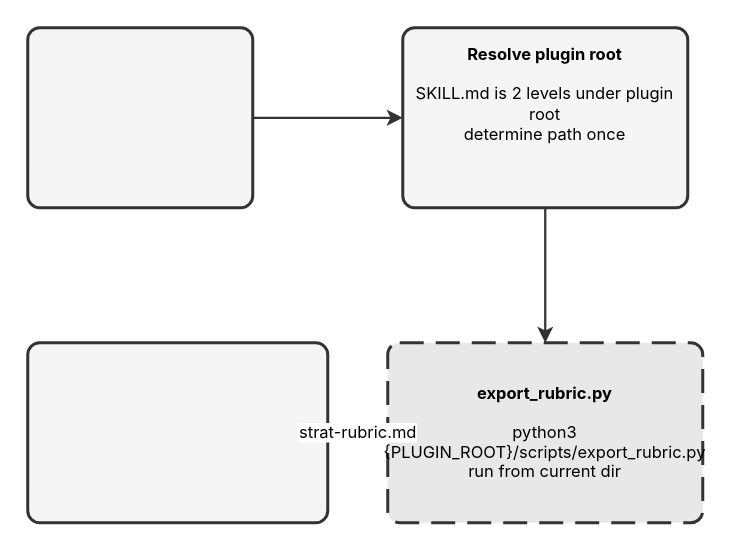
Some shapes in this 732 by 549 pixel diagram are drawn without their labels. The centre of each missing label's shape, as x and y in pixels:
/export-rubric no args: (140,117)
artifacts/strat-rubric.md confirm file written print its path: (177,432)
